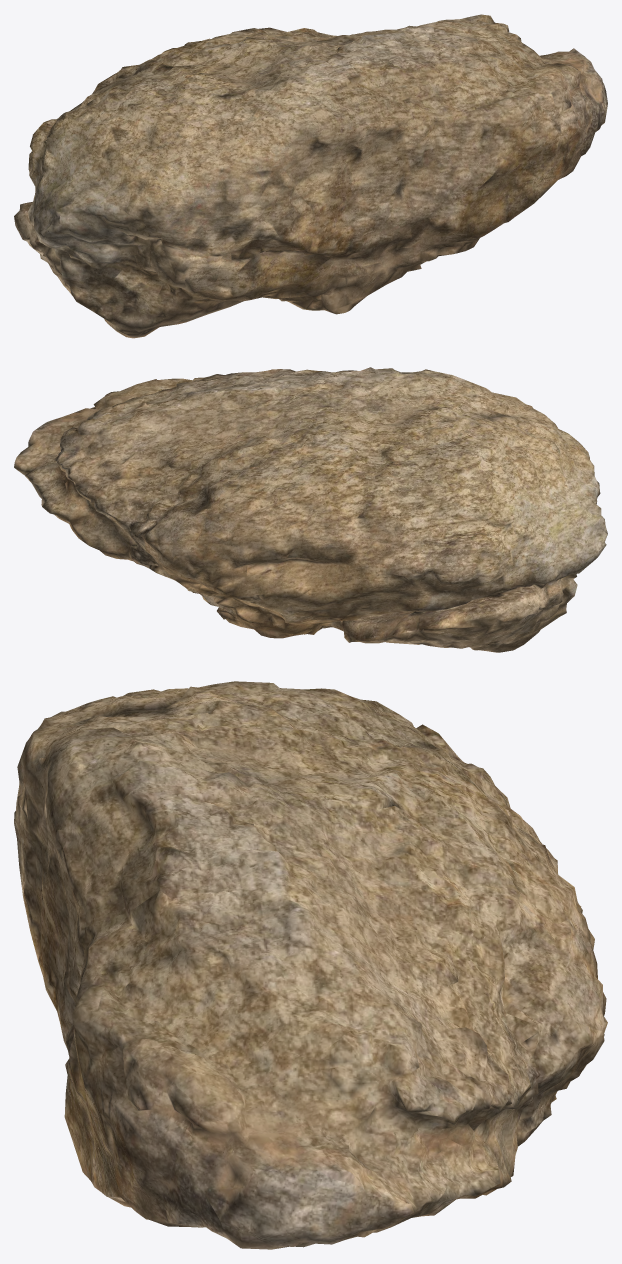
Rendered from rock-boulder-pale.glb.
3 views of the same model, one above another, from view 1: azimuth 30°, elevation 25°; view 2: azimuth 150°, elevation 25°; view 3: azimuth 270°, elevation 25° (orthographic). The views are drawn at different scales.
Visible parts, largest first — view 1: namaqualand_boulder_05; view 2: namaqualand_boulder_05; view 3: namaqualand_boulder_05.
Part boxes in pixels (x1,y1,x2,y2): namaqualand_boulder_05: (14, 14, 607, 338); namaqualand_boulder_05: (14, 367, 607, 652); namaqualand_boulder_05: (14, 681, 607, 1249).
Bounding box in the file's own units: 1.36 × 0.5339 × 0.7481.
Materials: 1 (1 with a texture image).
